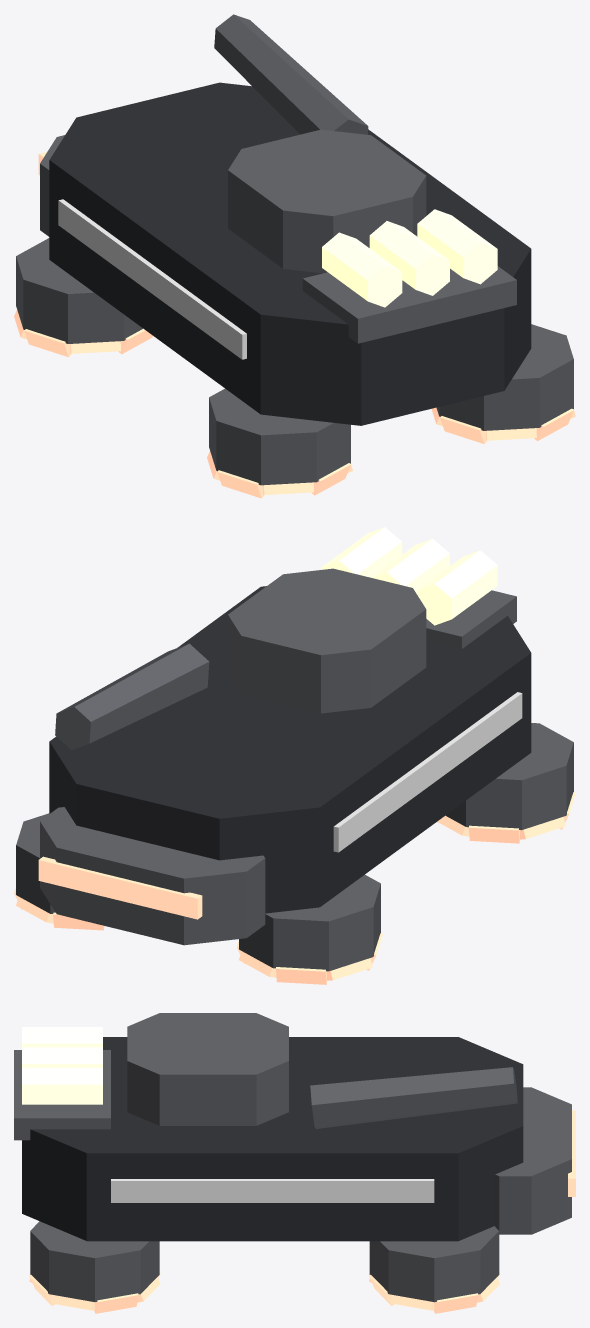
File: Aegis_Sapper.fbx
3 renders of one model, top to bottom at view 1: azimuth 30°, elevation 25°; view 2: azimuth 150°, elevation 25°; view 3: azimuth 270°, elevation 25°, orthographic. The views are drawn at different scales.
Visible parts, largest first — view 1: SAP_Body, SAP_Seat, SAP_Pad-1B, SAP_Rack, SAP_Launcher, SAP_Pad-1F, SAP_Pad1B, SAP_Team-1, SAP_Charge0, SAP_Charge2, SAP_Charge1, SAP_Pad-1B_Glow (+3 smaller); view 2: SAP_Body, SAP_Seat, SAP_Nose, SAP_Pad-1F, SAP_Launcher, SAP_Pad-1B, SAP_Team-1, SAP_Headlight, SAP_Charge0, SAP_Rack, SAP_Charge2, SAP_Charge1 (+4 smaller); view 3: SAP_Body, SAP_Seat, SAP_Launcher, SAP_Nose, SAP_Team1, SAP_Pad1B, SAP_Pad1F, SAP_Rack, SAP_Charge2, SAP_Charge0, SAP_Charge1, SAP_Pad1B_Glow (+2 smaller).
Part boxes in pixels (x1,y1,x2,y2): SAP_Body: (49,82,531,425); SAP_Seat: (228,129,426,273); SAP_Pad-1B: (209,388,350,485); SAP_Rack: (302,266,516,343); SAP_Launcher: (214,14,368,134); SAP_Pad-1F: (16,238,142,343); SAP_Pad1B: (436,324,573,430); SAP_Team-1: (58,199,246,359); SAP_Charge0: (322,232,402,307); SAP_Charge2: (417,209,497,284); SAP_Charge1: (369,221,449,295); SAP_Pad-1B_Glow: (207,451,352,498); SAP_Body: (49,586,531,913); SAP_Seat: (228,568,426,713); SAP_Nose: (40,807,265,945); SAP_Pad-1F: (239,874,380,971); SAP_Launcher: (55,643,209,749); SAP_Pad-1B: (445,723,573,830); SAP_Team-1: (333,692,522,852); SAP_Headlight: (38,856,202,919); SAP_Charge0: (417,550,497,625); SAP_Rack: (426,590,516,649); SAP_Charge2: (322,527,402,577); SAP_Charge1: (371,539,449,594); SAP_Body: (22,1037,523,1241); SAP_Seat: (127,1013,288,1125); SAP_Launcher: (310,1067,517,1128); SAP_Nose: (495,1087,571,1234); SAP_Team1: (111,1179,434,1202); SAP_Pad1B: (30,1221,159,1301); SAP_Pad1F: (369,1226,499,1302); SAP_Rack: (14,1050,110,1140); SAP_Charge2: (22,1068,102,1104); SAP_Charge0: (22,1027,102,1047); SAP_Charge1: (22,1047,102,1067); SAP_Pad1B_Glow: (29,1272,160,1313).
Bounding box in the file's own units: 0.4426 × 0.2837 × 0.695.
